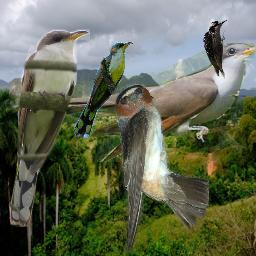Cuckoo: (24, 43, 255, 162), (10, 29, 90, 227), (74, 42, 133, 138)
Swallow: (114, 84, 209, 255)
Woodpecker: (201, 17, 229, 79)
